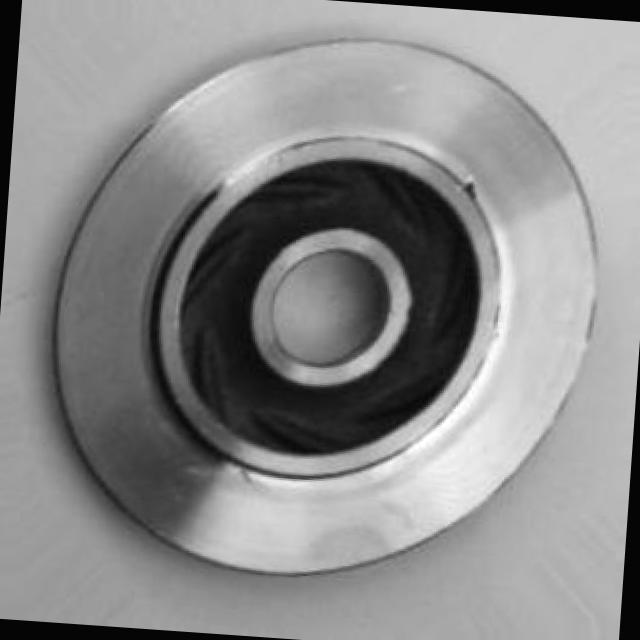Defect: (460, 174, 489, 203)
